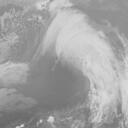cyclone: (42, 32, 101, 91)
